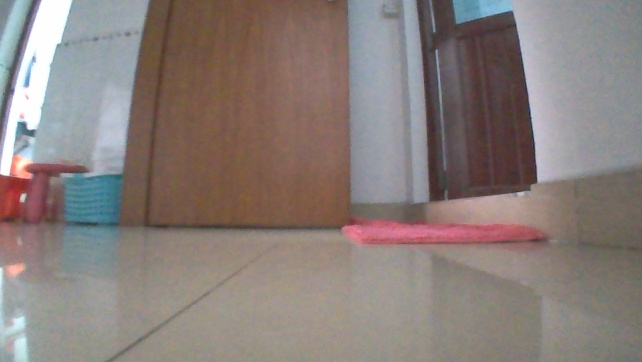blanket: (338, 214, 544, 245)
door_anno: (116, 0, 349, 235), (414, 0, 539, 205)
